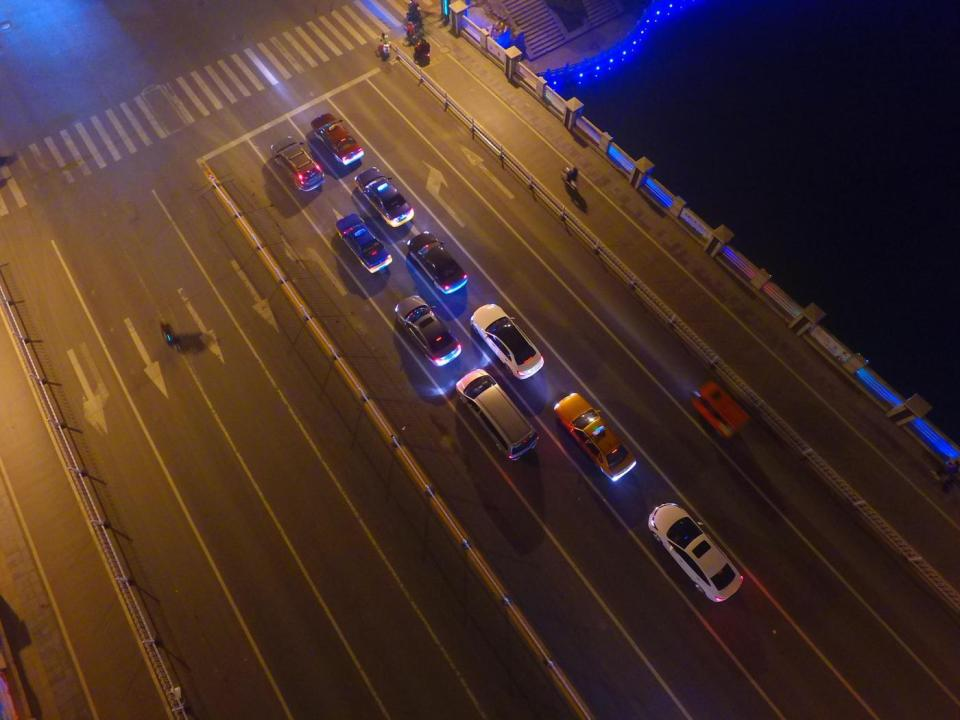car: (646, 501, 744, 603), (456, 368, 540, 461), (553, 392, 637, 483), (469, 300, 544, 378), (394, 294, 462, 366), (406, 229, 468, 295), (355, 165, 414, 228), (335, 211, 394, 273), (270, 136, 325, 192), (312, 111, 365, 165)
van: (689, 382, 750, 439)
